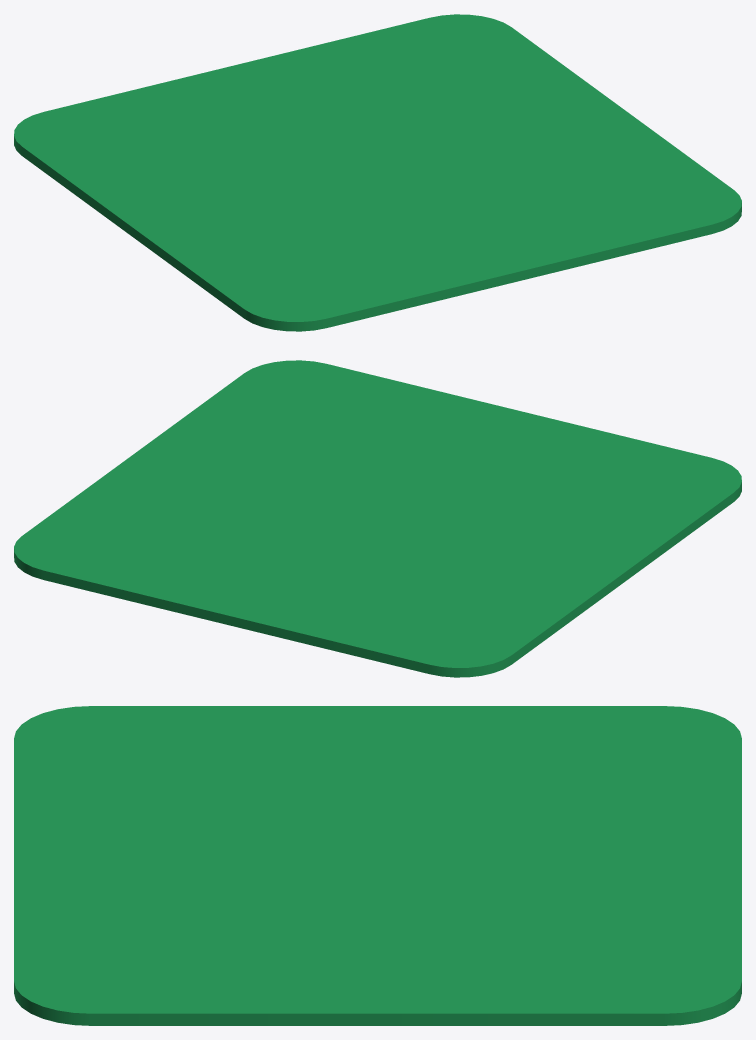
File: grassTile.fbx
The picture shows the model from 3 angles, top to bottom: view 1: azimuth 30°, elevation 25°; view 2: azimuth 150°, elevation 25°; view 3: azimuth 270°, elevation 25°; orthographic projection. The views are drawn at different scales.
Parts seen in each view (by area): view 1: Ground.002; view 2: Ground.002; view 3: Ground.002.
Part boxes in pixels (left/top/right/bottom): Ground.002: left=14, top=14, right=741, bottom=331; Ground.002: left=14, top=360, right=741, bottom=677; Ground.002: left=14, top=706, right=741, bottom=1025.
Size of the model in its own units: 800 by 14.82 by 800.
